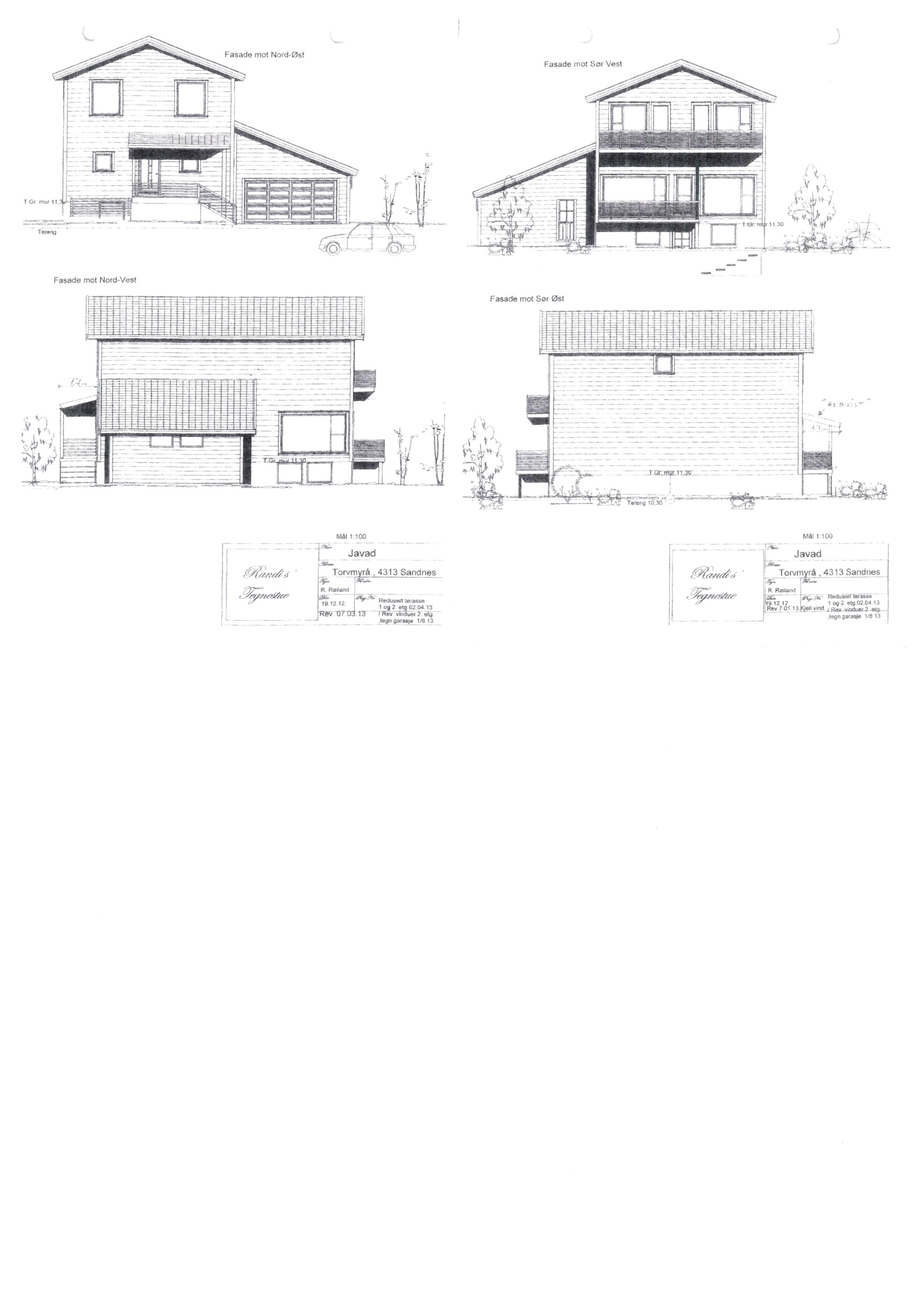fasade: (471, 56, 779, 280), (56, 294, 387, 492), (513, 307, 843, 505), (49, 35, 361, 231)
